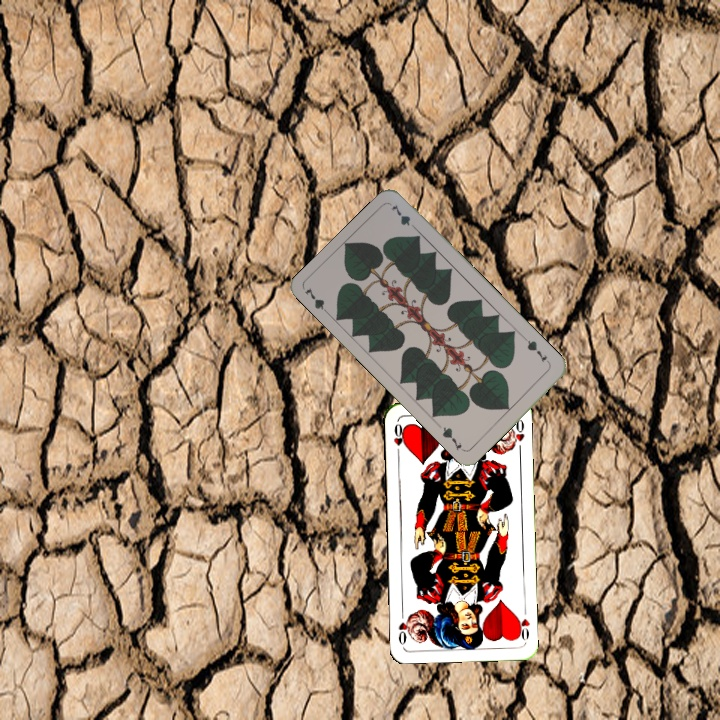G7: (301, 283, 333, 319), (521, 335, 550, 365)
HO: (513, 603, 532, 643), (390, 419, 407, 459)
